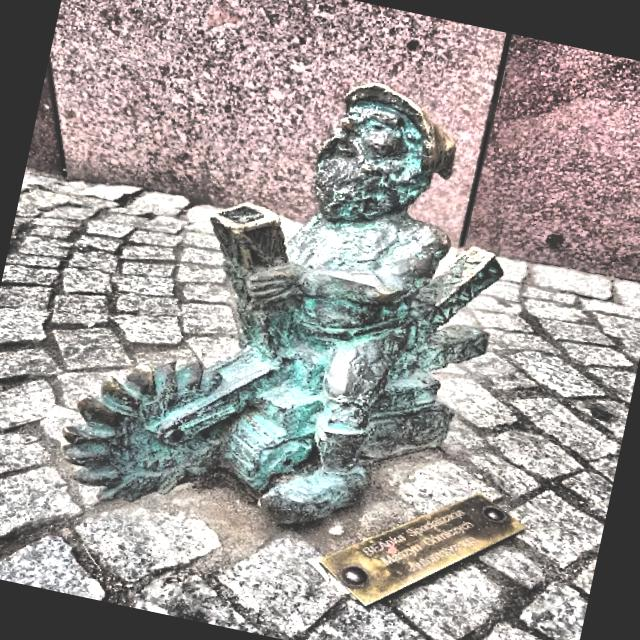Automatek: (64, 84, 501, 524)
